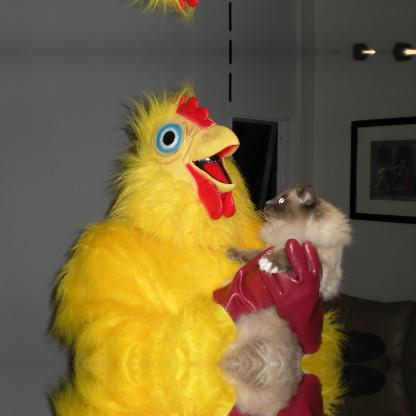Cat: (217, 183, 357, 363), (217, 365, 358, 415)
